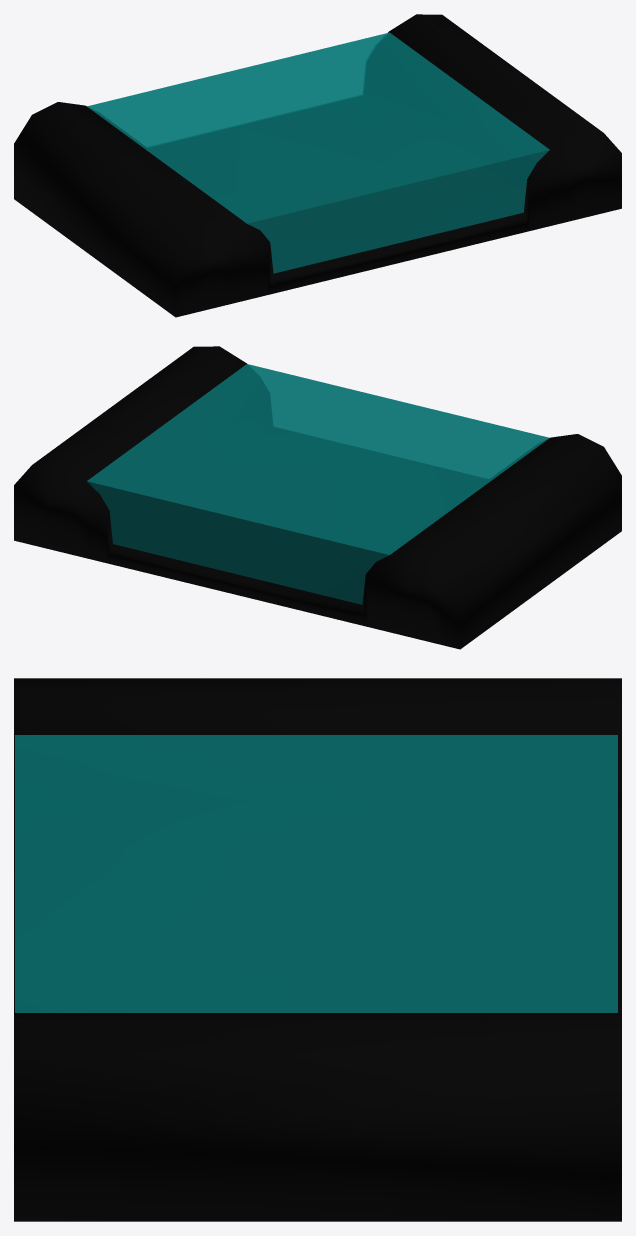
File: water physics.fbx
3 renders of one model, top to bottom at view 1: azimuth 30°, elevation 25°; view 2: azimuth 150°, elevation 25°; view 3: azimuth 270°, elevation 25°, orthographic. The views are drawn at different scales.
Visible parts, largest first — view 1: Cube.001; view 2: Cube.001; view 3: Cube.001.
Boxes of the visible parts, x1,y1,x2,y2 form: Cube.001: (14,14,621,317); Cube.001: (14,346,621,649); Cube.001: (14,678,621,1221).
Bounding box in the file's own units: 57.38 × 10.64 × 36.01.
